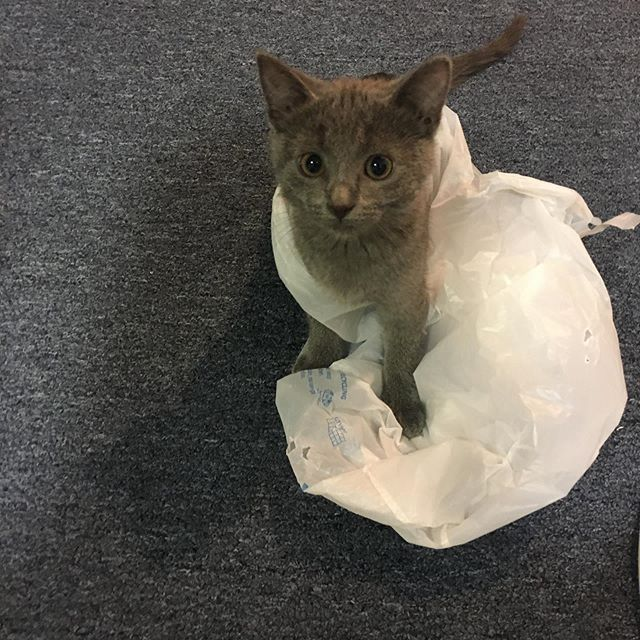cat: (244, 39, 465, 260)
